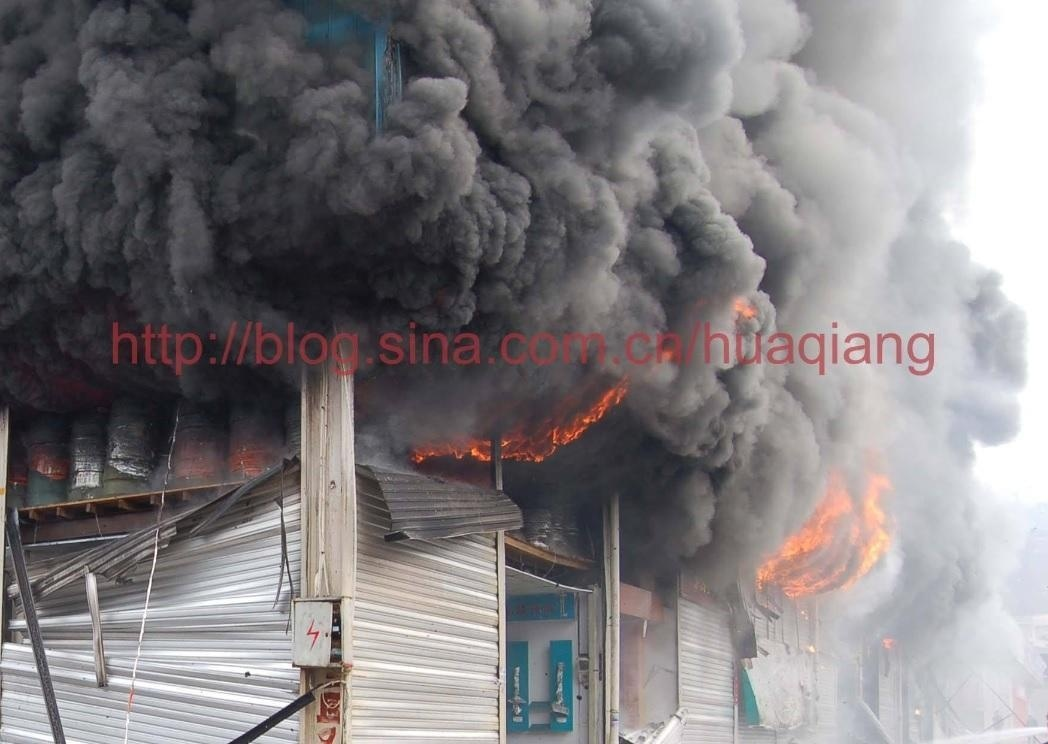fire: (755, 473, 895, 600)
